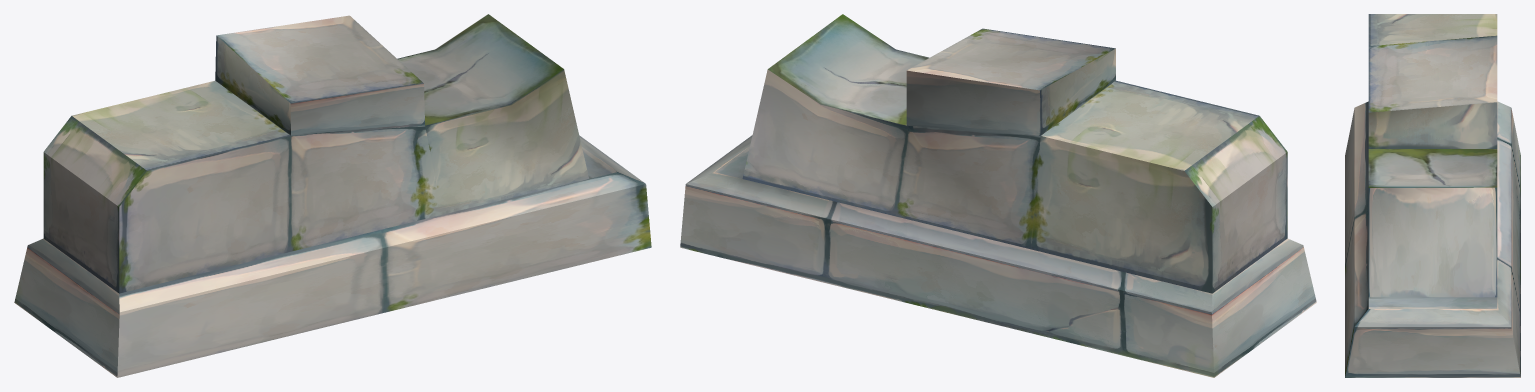
Rendered from temple_obstacle_02_broken.fbx.
3 views of the same model, side by side, from view 1: azimuth 30°, elevation 25°; view 2: azimuth 150°, elevation 25°; view 3: azimuth 270°, elevation 25° (orthographic). The views are drawn at different scales.
Visible parts, largest first — view 1: geo_Temple_Stair_LP.014; view 2: geo_Temple_Stair_LP.014; view 3: geo_Temple_Stair_LP.014.
Boxes of the visible parts, x1,y1,x2,y2 form: geo_Temple_Stair_LP.014: (14, 14, 651, 377); geo_Temple_Stair_LP.014: (680, 14, 1316, 377); geo_Temple_Stair_LP.014: (1345, 14, 1520, 377).
Size of the model in its own units: 3 by 1.24 by 1.
